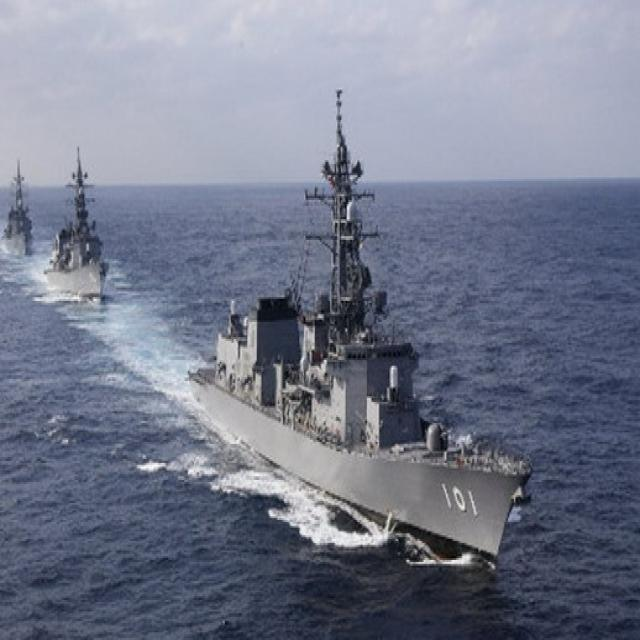navalvessels: (186, 87, 526, 573), (39, 142, 108, 310), (0, 161, 33, 253)
